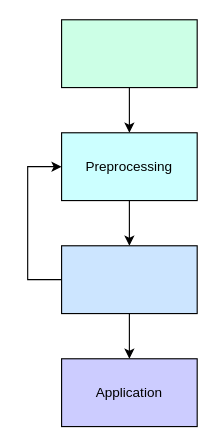
The diagram is 217 pixels wide and 446 high, and some of its shapes have lost their labels. Here are the shapes that lost their labels. From the top down, the centre of each, then its label:
At (128,53): "Web Scraper".
At (128,279): "Modelling".
